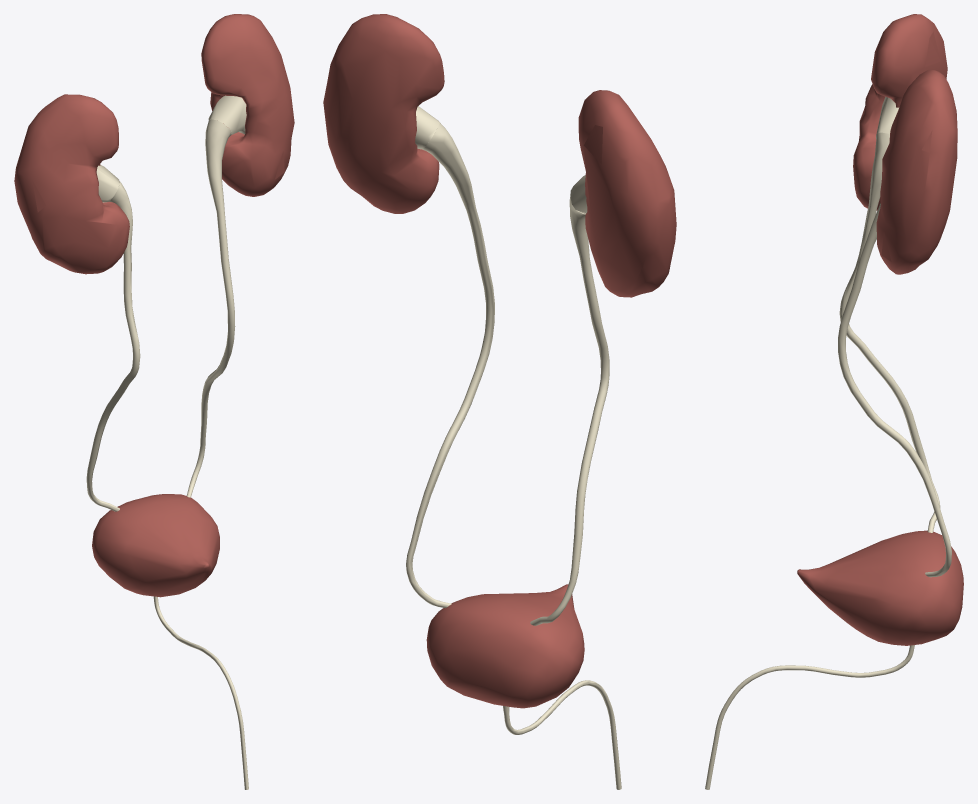
The model's file is adult_male.urinary.LOD1.glb.
3 renders of one model, left to right at view 1: azimuth 30°, elevation 25°; view 2: azimuth 150°, elevation 25°; view 3: azimuth 270°, elevation 25°, orthographic. The views are drawn at different scales.
Parts seen in each view (by area): view 1: ADULT.MALE.URINARY.KIDNEY.R, ADULT.MALE.URINARY.KIDNEY.L, ADULT.MALE.URINARY.URINARY_BLADDER, ADULT.MALE.URINARY.URETER.L, ADULT.MALE.URINARY.URETER.R, ADULT.MALE.URINARY.URETHRA, ADULT.MALE.URINARY.RENAL_PELVIS.L, ADULT.MALE.URINARY.RENAL_PELVIS.R; view 2: ADULT.MALE.URINARY.KIDNEY.L, ADULT.MALE.URINARY.KIDNEY.R, ADULT.MALE.URINARY.URINARY_BLADDER, ADULT.MALE.URINARY.URETER.L, ADULT.MALE.URINARY.URETER.R, ADULT.MALE.URINARY.URETHRA, ADULT.MALE.URINARY.RENAL_PELVIS.L; view 3: ADULT.MALE.URINARY.URINARY_BLADDER, ADULT.MALE.URINARY.KIDNEY.L, ADULT.MALE.URINARY.KIDNEY.R, ADULT.MALE.URINARY.URETER.L, ADULT.MALE.URINARY.URETER.R, ADULT.MALE.URINARY.URETHRA, ADULT.MALE.URINARY.RENAL_PELVIS.R.
Boxes of the visible parts, left/top/right/bottom form: ADULT.MALE.URINARY.KIDNEY.R: left=14, top=94, right=129, bottom=274; ADULT.MALE.URINARY.KIDNEY.L: left=201, top=14, right=294, bottom=196; ADULT.MALE.URINARY.URINARY_BLADDER: left=92, top=494, right=219, bottom=597; ADULT.MALE.URINARY.URETER.L: left=186, top=119, right=235, bottom=497; ADULT.MALE.URINARY.URETER.R: left=86, top=181, right=140, bottom=511; ADULT.MALE.URINARY.URETHRA: left=153, top=596, right=248, bottom=789; ADULT.MALE.URINARY.RENAL_PELVIS.L: left=208, top=95, right=246, bottom=134; ADULT.MALE.URINARY.RENAL_PELVIS.R: left=96, top=165, right=119, bottom=202; ADULT.MALE.URINARY.KIDNEY.L: left=323, top=14, right=444, bottom=213; ADULT.MALE.URINARY.KIDNEY.R: left=578, top=90, right=676, bottom=297; ADULT.MALE.URINARY.URINARY_BLADDER: left=426, top=584, right=584, bottom=708; ADULT.MALE.URINARY.URETER.L: left=406, top=122, right=494, bottom=607; ADULT.MALE.URINARY.URETER.R: left=530, top=197, right=609, bottom=625; ADULT.MALE.URINARY.URETHRA: left=503, top=680, right=621, bottom=789; ADULT.MALE.URINARY.RENAL_PELVIS.L: left=415, top=106, right=439, bottom=149; ADULT.MALE.URINARY.URINARY_BLADDER: left=797, top=530, right=963, bottom=645; ADULT.MALE.URINARY.KIDNEY.L: left=876, top=70, right=957, bottom=274; ADULT.MALE.URINARY.KIDNEY.R: left=853, top=14, right=947, bottom=210; ADULT.MALE.URINARY.URETER.L: left=838, top=203, right=951, bottom=577; ADULT.MALE.URINARY.URETER.R: left=839, top=132, right=940, bottom=532; ADULT.MALE.URINARY.URETHRA: left=705, top=645, right=914, bottom=789; ADULT.MALE.URINARY.RENAL_PELVIS.R: left=876, top=96, right=898, bottom=134.
Size of the model in its own units: 0.178 by 0.4203 by 0.1293.
